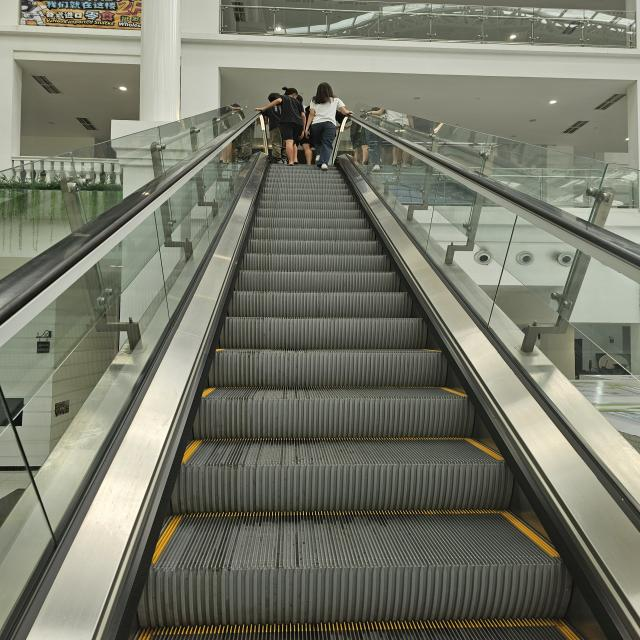escalator: (113, 157, 560, 640)
person: (302, 82, 353, 170), (254, 88, 309, 165), (366, 107, 414, 170)
